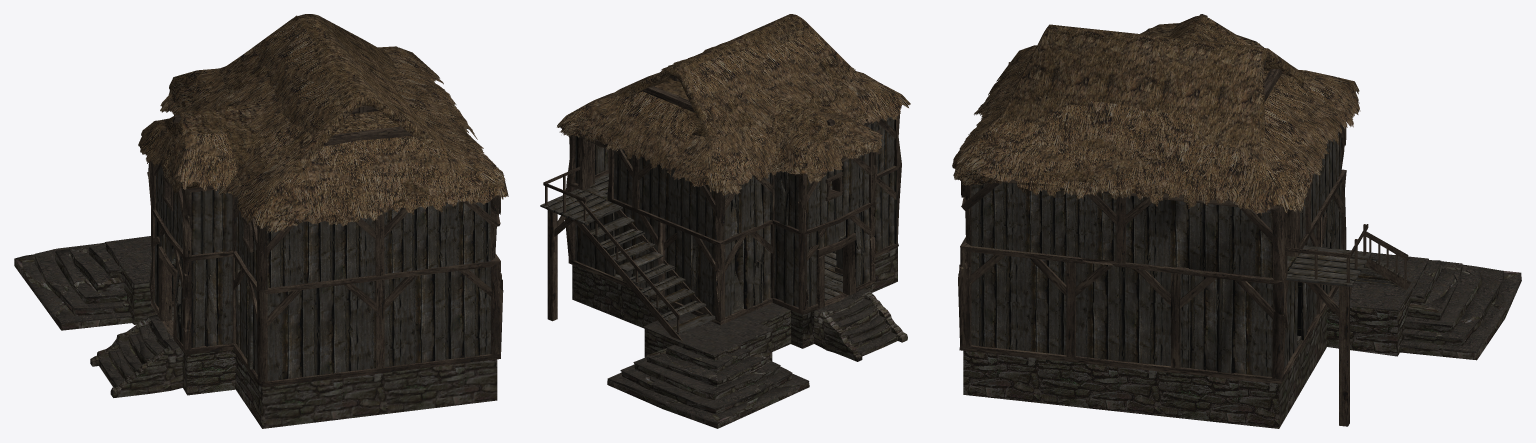
File: G3_Myrtana_Ardea_House_2_Story_01.obj
The picture shows the model from 3 angles, left to right: view 1: azimuth 30°, elevation 25°; view 2: azimuth 150°, elevation 25°; view 3: azimuth 270°, elevation 25°; orthographic projection. The views are drawn at different scales.
Parts seen in each view (by area): view 1: G3_Myrtana_Ardea_House_2_Story_01_3, G3_Myrtana_Ardea_House_2_Story_01_1, G3_Myrtana_Ardea_House_2_Story_01_2, G3_Myrtana_Ardea_House_2_Story_01_4, G3_Myrtana_Ardea_House_2_Story_01_0, G3_Myrtana_Ardea_House_2_Story_01_5; view 2: G3_Myrtana_Ardea_House_2_Story_01_3, G3_Myrtana_Ardea_House_2_Story_01_1, G3_Myrtana_Ardea_House_2_Story_01_4, G3_Myrtana_Ardea_House_2_Story_01_2, G3_Myrtana_Ardea_House_2_Story_01_5, G3_Myrtana_Ardea_House_2_Story_01_0; view 3: G3_Myrtana_Ardea_House_2_Story_01_3, G3_Myrtana_Ardea_House_2_Story_01_1, G3_Myrtana_Ardea_House_2_Story_01_0, G3_Myrtana_Ardea_House_2_Story_01_2, G3_Myrtana_Ardea_House_2_Story_01_4, G3_Myrtana_Ardea_House_2_Story_01_5.
Part boxes in pixels (x1,y1,x2,y2): G3_Myrtana_Ardea_House_2_Story_01_3: (153,166,490,380); G3_Myrtana_Ardea_House_2_Story_01_1: (138,15,508,233); G3_Myrtana_Ardea_House_2_Story_01_2: (14,244,497,428); G3_Myrtana_Ardea_House_2_Story_01_4: (147,105,503,387); G3_Myrtana_Ardea_House_2_Story_01_0: (164,14,501,201); G3_Myrtana_Ardea_House_2_Story_01_5: (15,236,179,386); G3_Myrtana_Ardea_House_2_Story_01_3: (540,117,896,334); G3_Myrtana_Ardea_House_2_Story_01_1: (557,32,910,195); G3_Myrtana_Ardea_House_2_Story_01_4: (543,76,901,340); G3_Myrtana_Ardea_House_2_Story_01_2: (572,247,907,428); G3_Myrtana_Ardea_House_2_Story_01_5: (607,288,897,423); G3_Myrtana_Ardea_House_2_Story_01_0: (601,14,901,175); G3_Myrtana_Ardea_House_2_Story_01_3: (971,133,1407,376); G3_Myrtana_Ardea_House_2_Story_01_1: (952,23,1360,215); G3_Myrtana_Ardea_House_2_Story_01_0: (959,15,1339,205); G3_Myrtana_Ardea_House_2_Story_01_2: (963,261,1521,428); G3_Myrtana_Ardea_House_2_Story_01_4: (958,14,1411,426); G3_Myrtana_Ardea_House_2_Story_01_5: (1332,252,1521,353).
Bounding box in the file's own units: 15.59 × 12.2 × 19.79.
